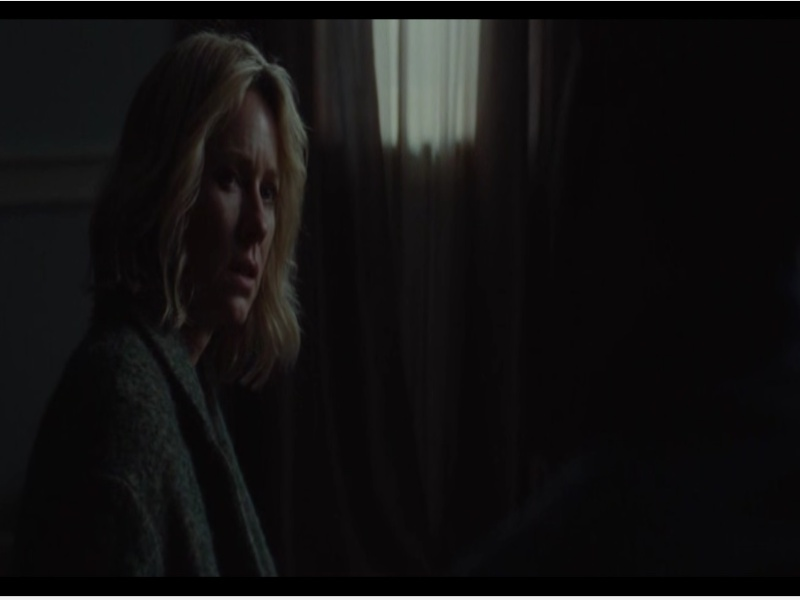TsisyArotava: (165, 70, 311, 353)
